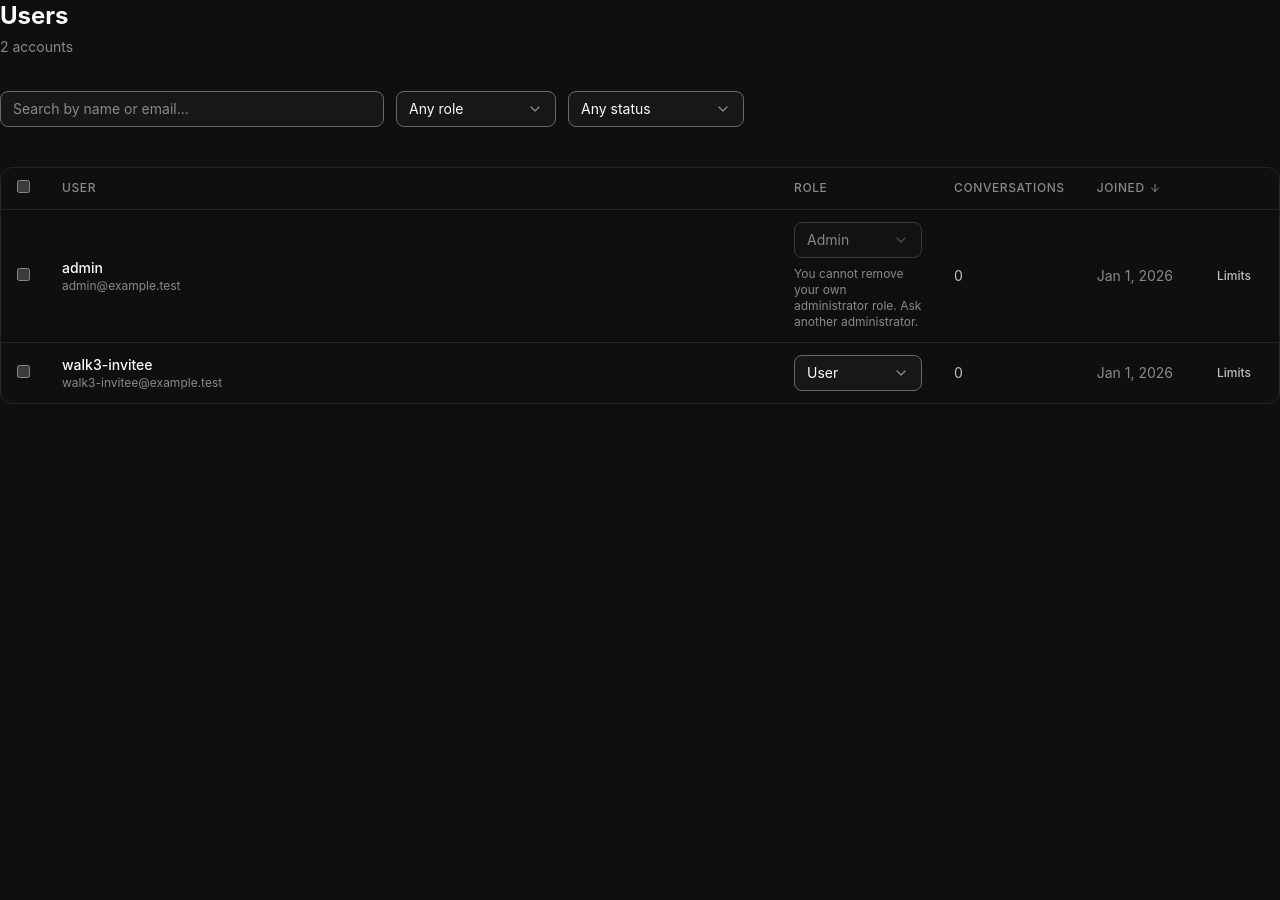
Test case: counts only the accounts that will change when making administrators
This screenshot has width=1280, height=900.
Click the checkbox named "Select admin@example.test" at (24, 274), box [17,268,30,281]
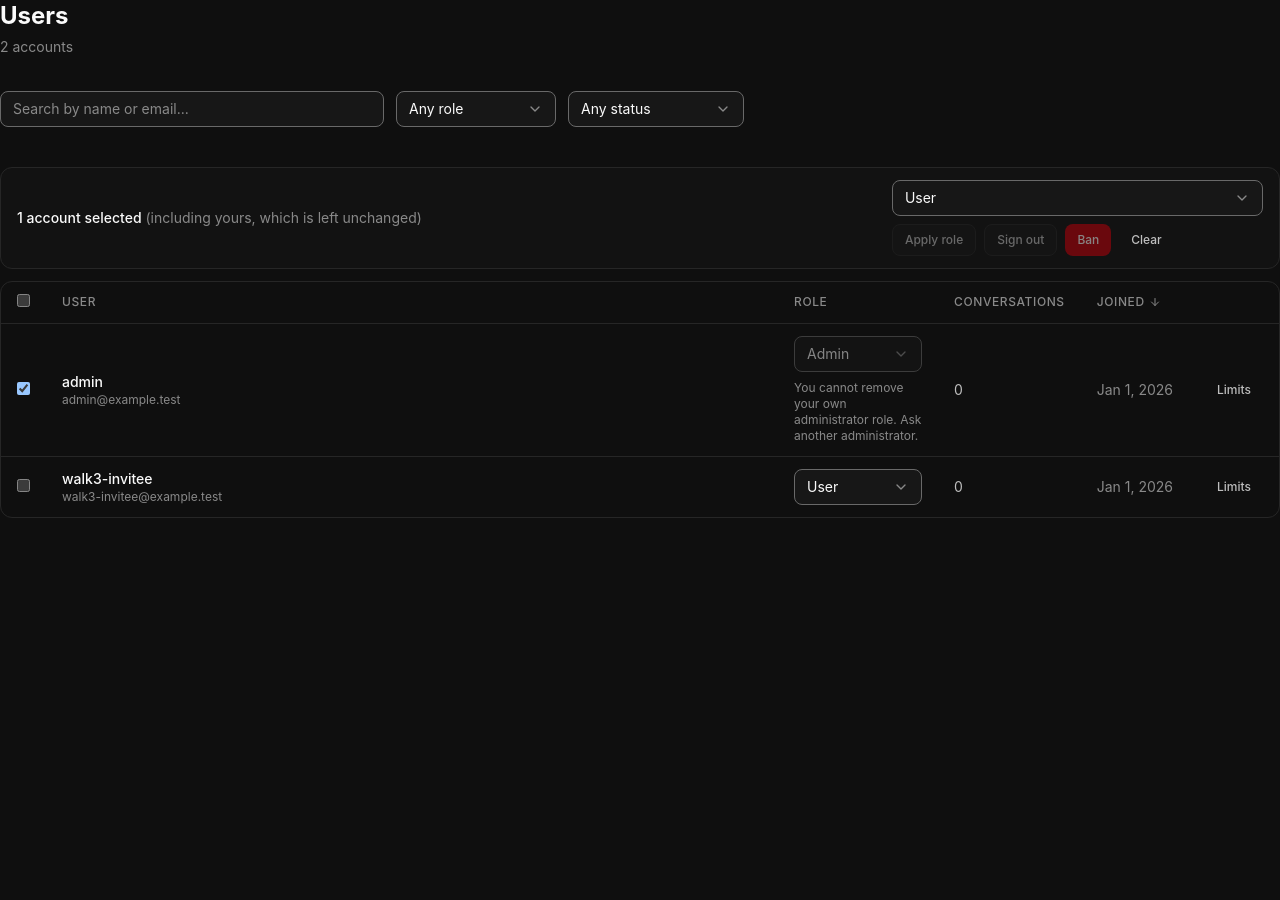
Click the checkbox named "Select walk3-invitee@example.test" at (24, 485), box [17,479,30,492]
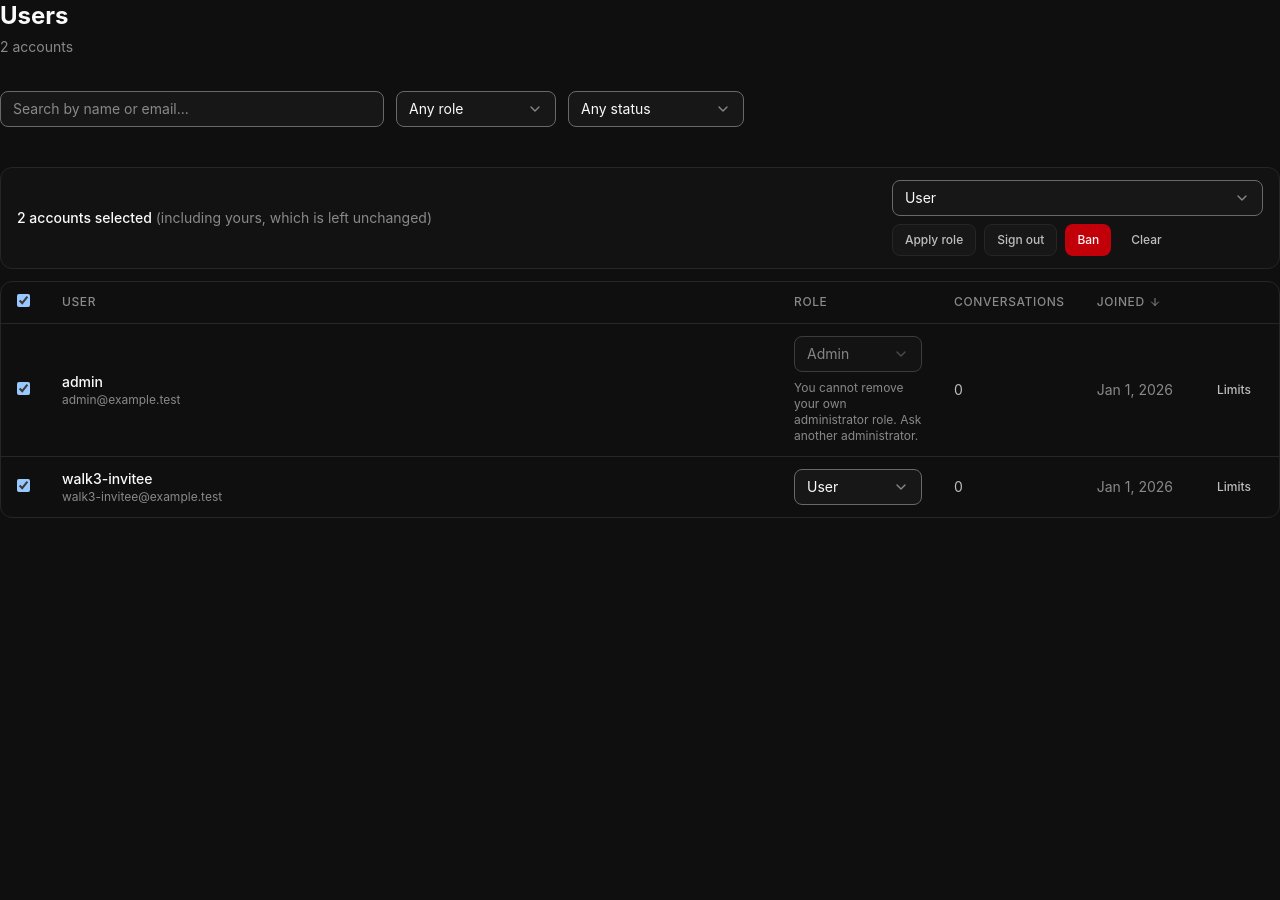
Expected: the text "2 accounts selected" is shown, [17,208,432,228]
Click the dropdown labelled "User" in the row of "selected" at (921, 197), box [892,180,1263,216]
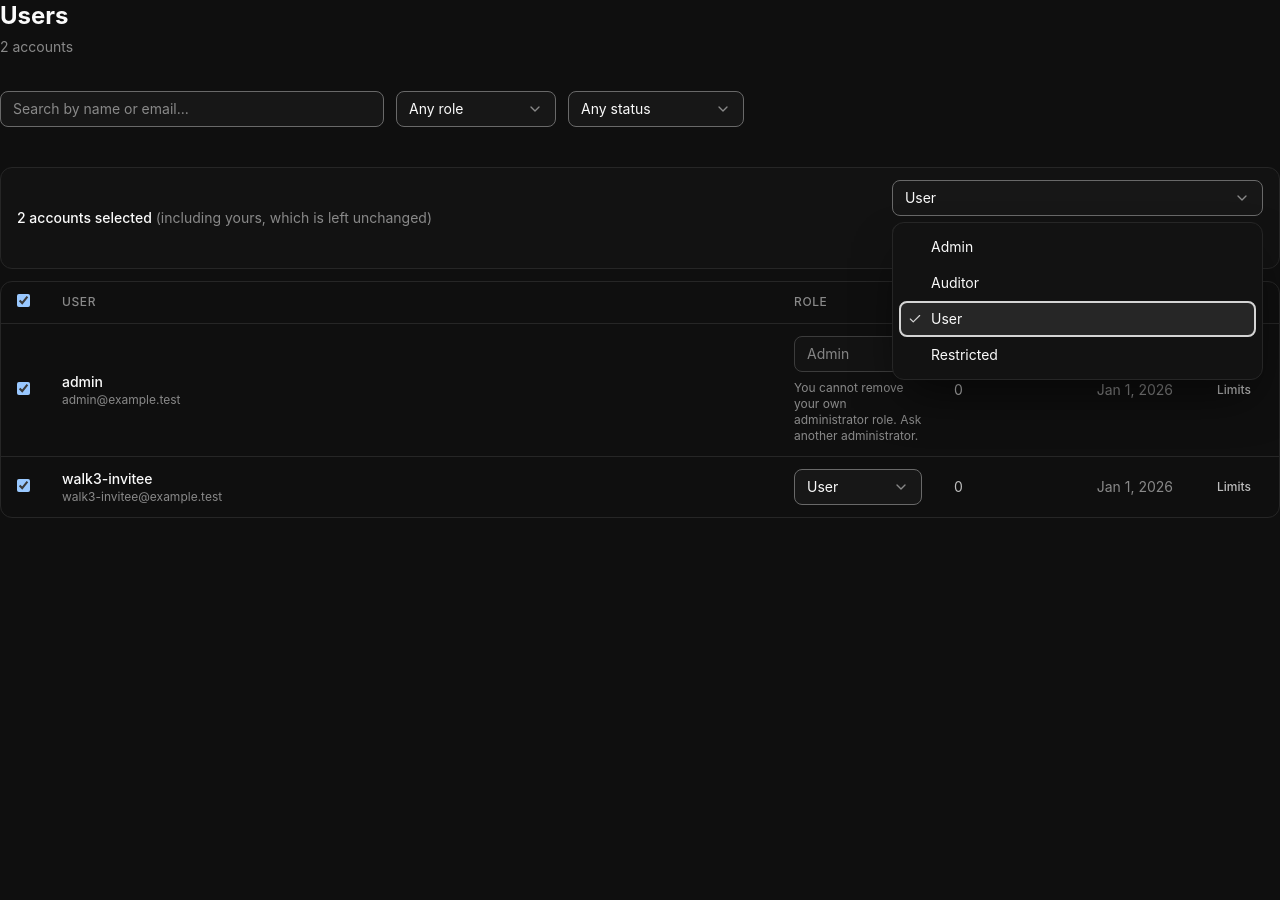
Click the option "Admin" at (952, 246), box [931,238,973,255]
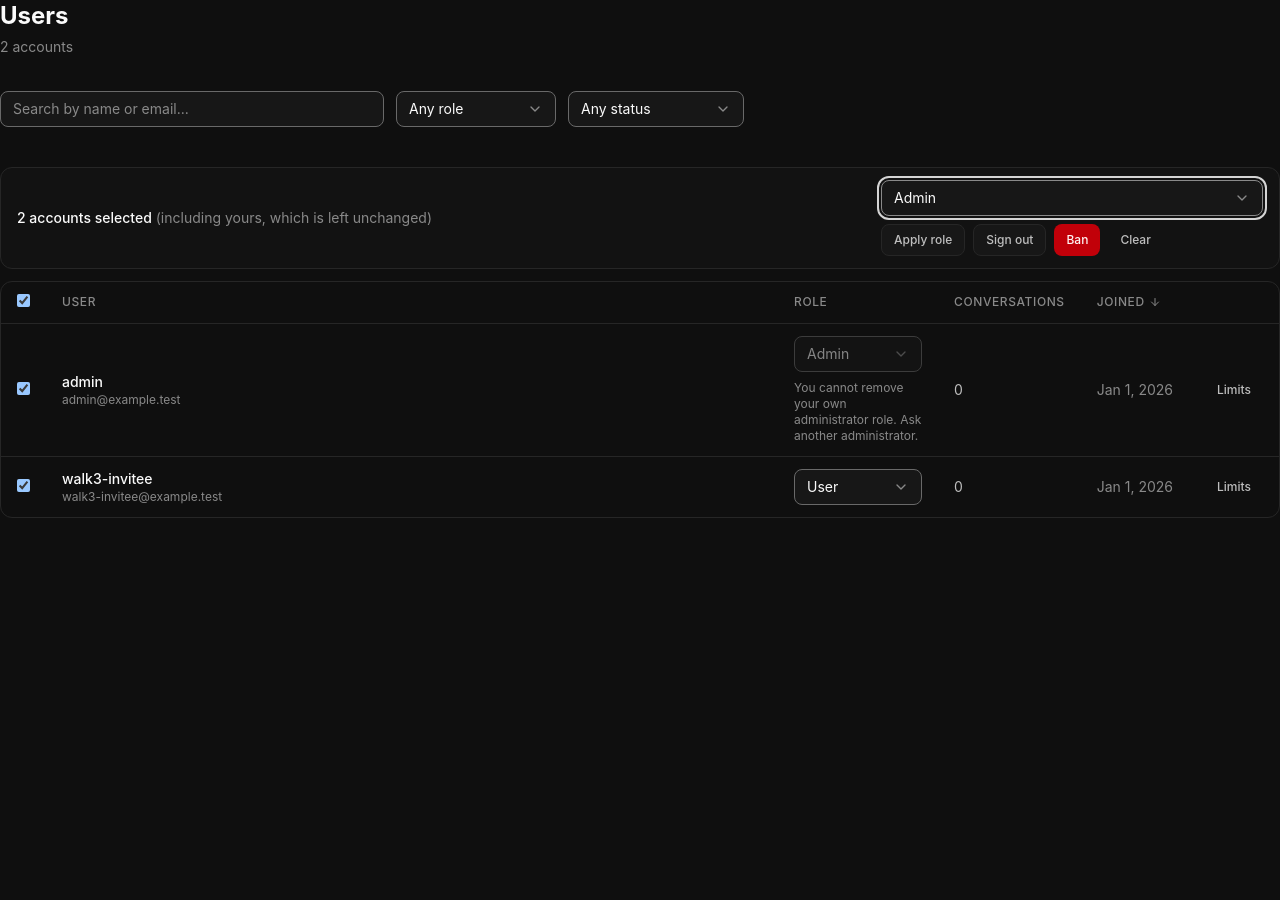
Click the button "Apply role" at (923, 240), box [881,224,965,256]
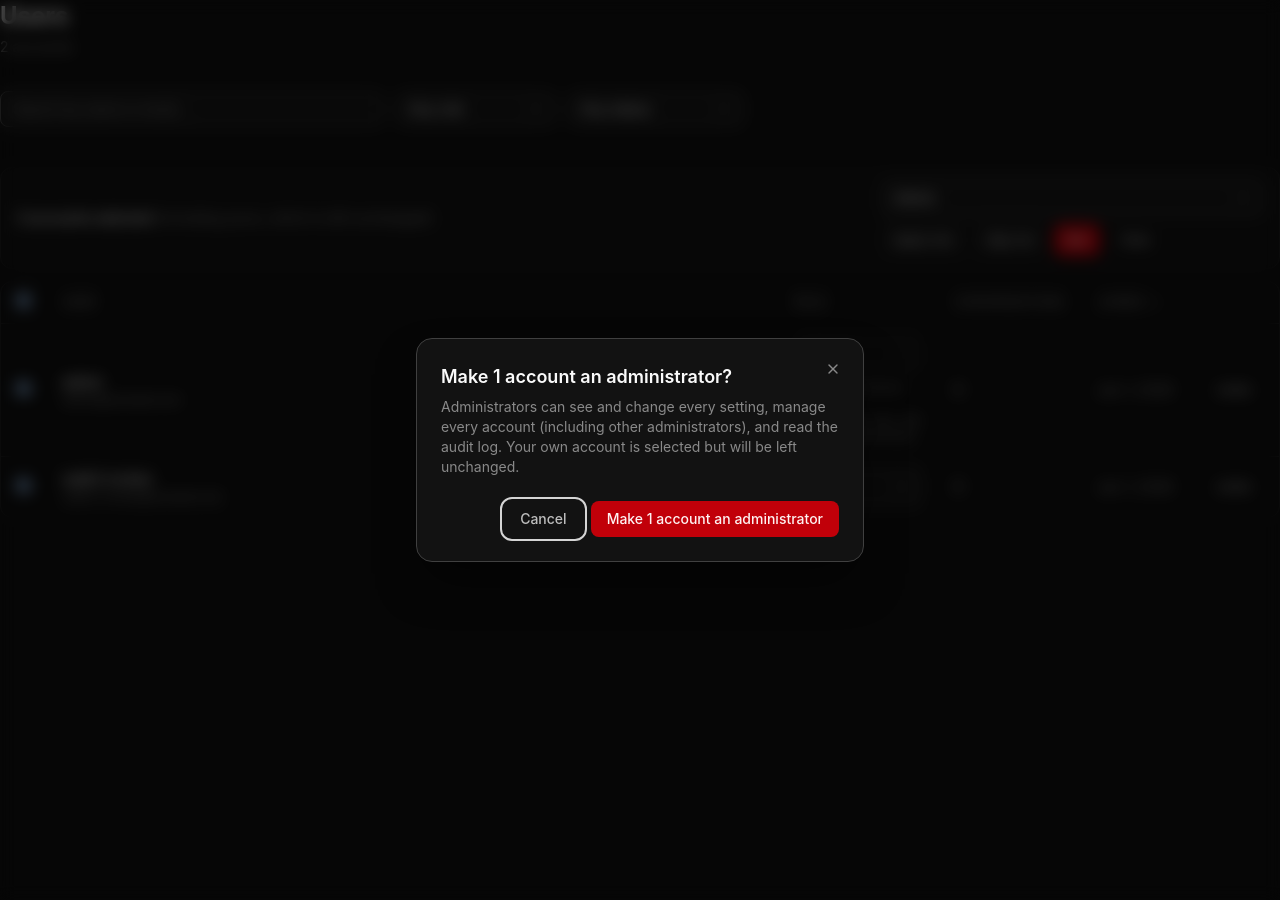
Expected: the dialog shows "Make 1 account an administrator?", [441,366,732,387]
Expected: the dialog shows "Your own account is selected but will be left unchanged.", [441,398,838,475]
